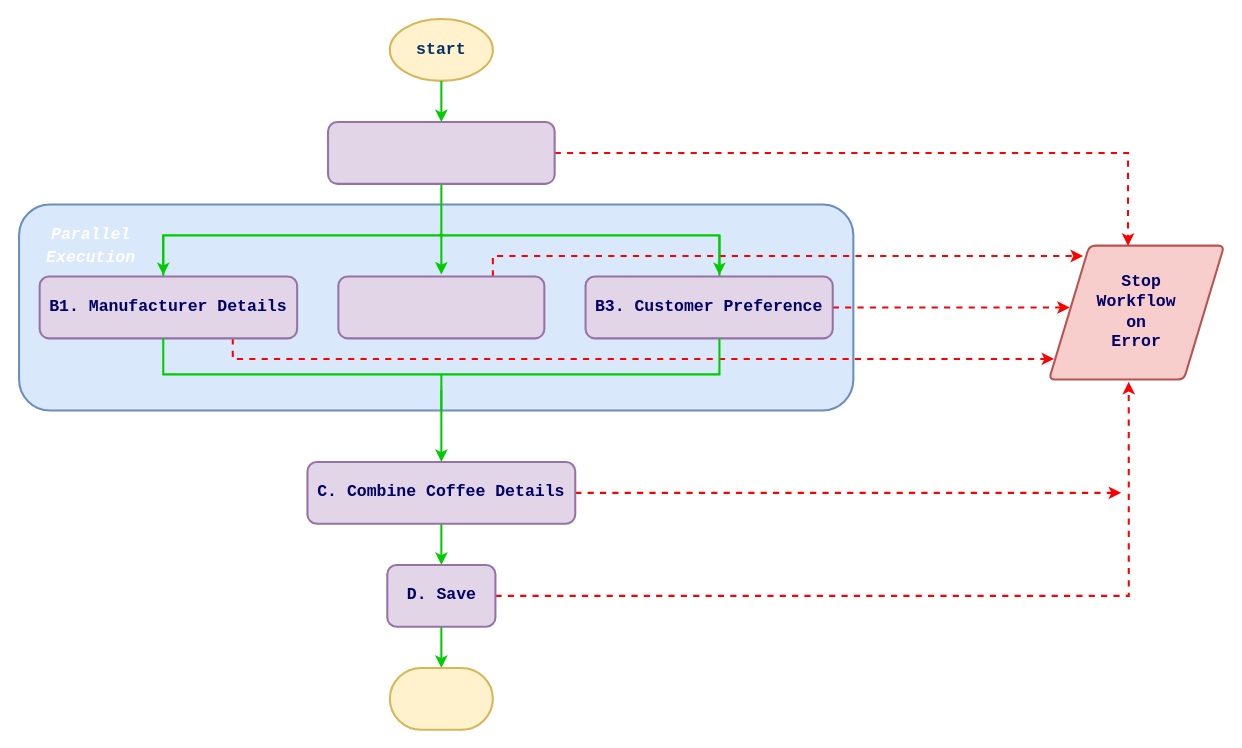
Some shapes in this 1242 by 748 pixel diagram are drawn without their labels. Here are the shapes that lost their labels. From the top down, the centre of each, then its label:
At point (441, 152): "A. Get Coffee Details".
At point (441, 307): "B2. Calculate Price".
At point (440, 698): "end".
